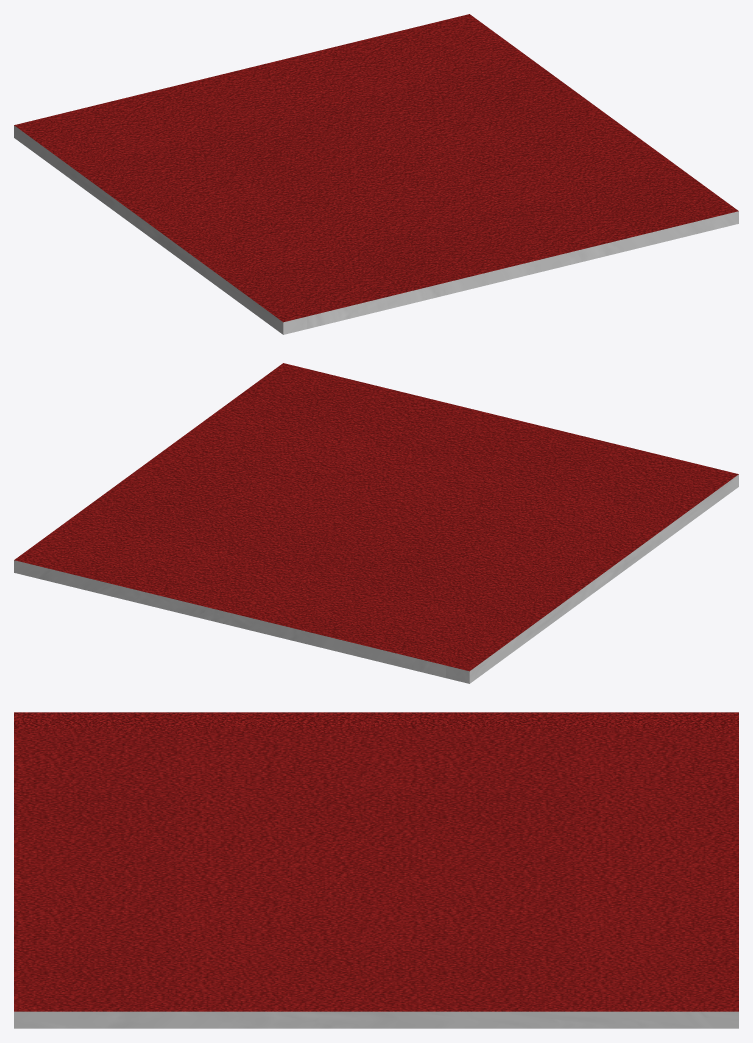
Rendered from Modulo techo.fbx.
3 views of the same model, one above another, from view 1: azimuth 30°, elevation 25°; view 2: azimuth 150°, elevation 25°; view 3: azimuth 270°, elevation 25° (orthographic). The views are drawn at different scales.
Parts seen in each view (by area): view 1: Techo.001; view 2: Techo.001; view 3: Techo.001.
Part boxes in pixels (x1,y1,x2,y2): Techo.001: (14, 14, 738, 334); Techo.001: (14, 363, 738, 683); Techo.001: (14, 712, 738, 1028).
Size of the model in its own units: 392 by 10.38 by 401.
3 materials, 2 textured.
